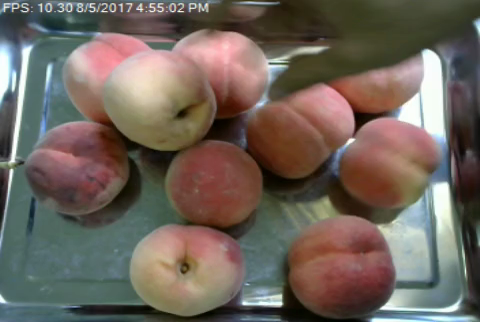Peach: (102, 49, 217, 152), (287, 216, 395, 319), (245, 83, 359, 178), (129, 224, 243, 318), (24, 119, 128, 213), (336, 117, 436, 212), (161, 140, 265, 226), (175, 28, 270, 117), (65, 31, 149, 130)
